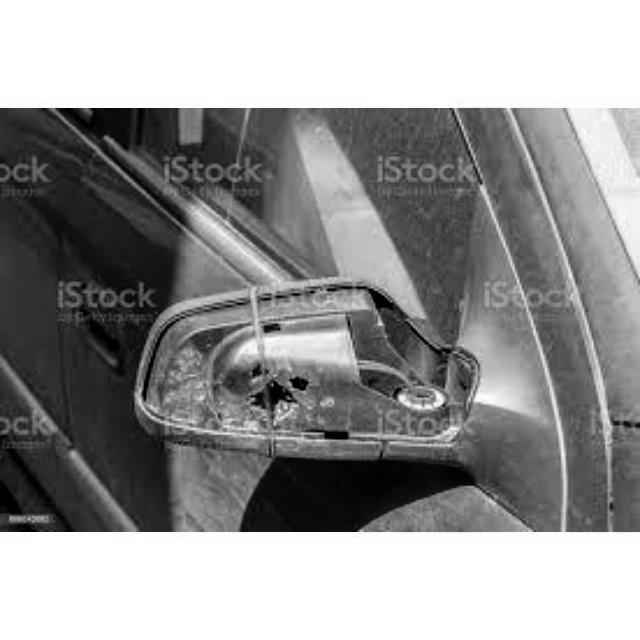Sidemirror-Damage: (126, 264, 508, 481)
